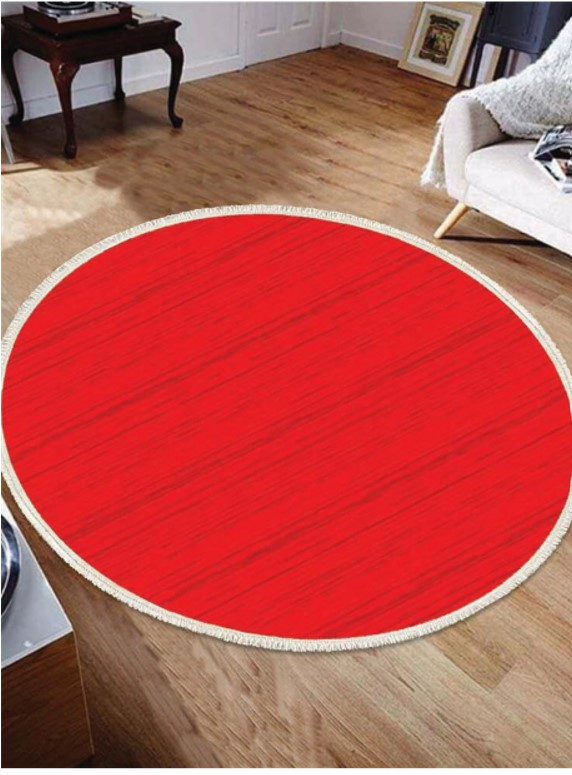su birakma alani: (1, 215, 572, 642)
